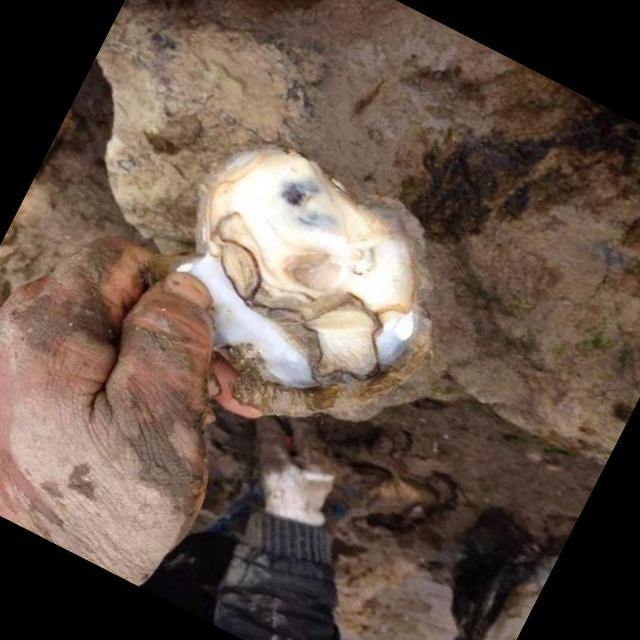Oyster-Open: (109, 103, 511, 486)
